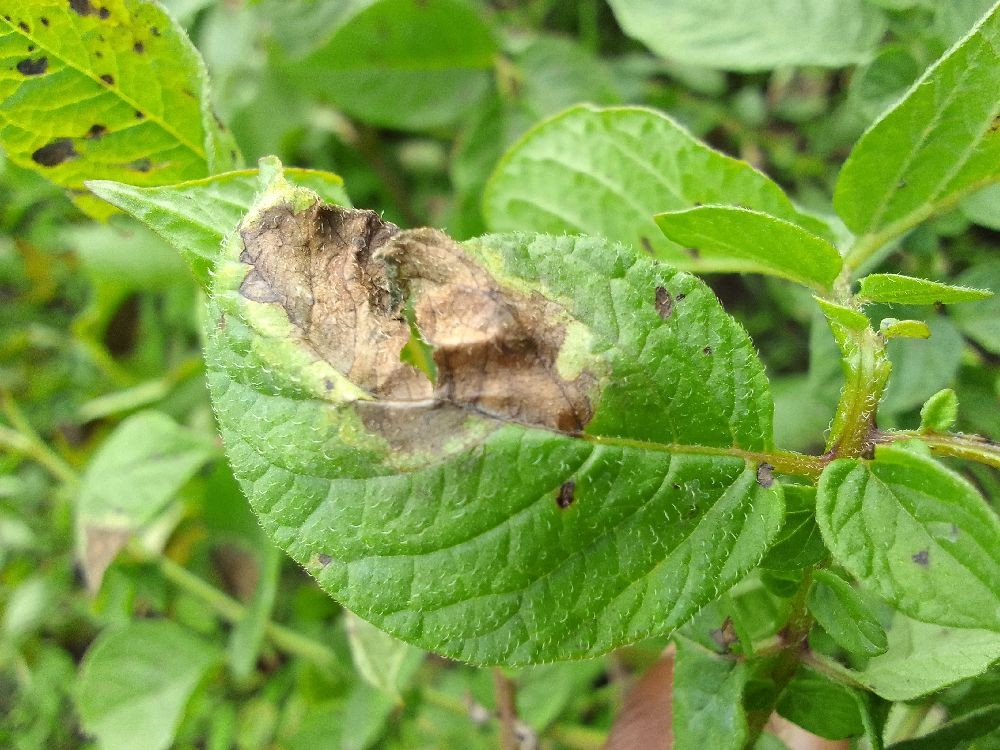late_blight: (242, 182, 613, 473), (584, 633, 687, 750), (201, 533, 263, 609), (97, 290, 152, 369)
